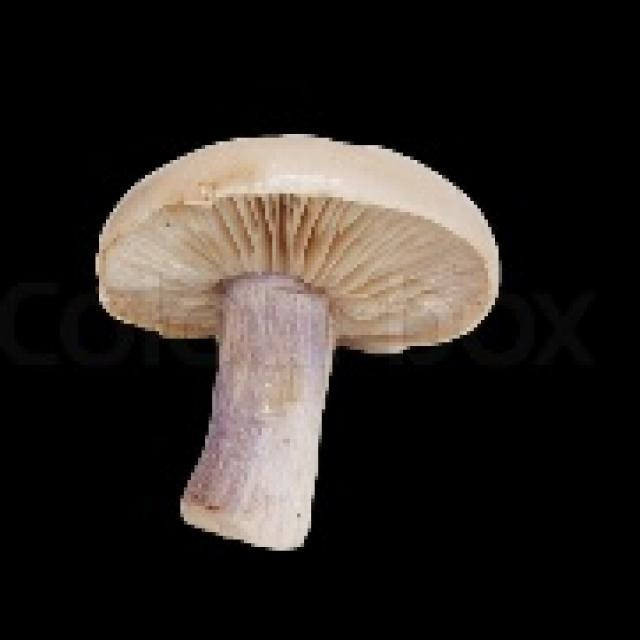mushroom: (99, 122, 513, 550)
